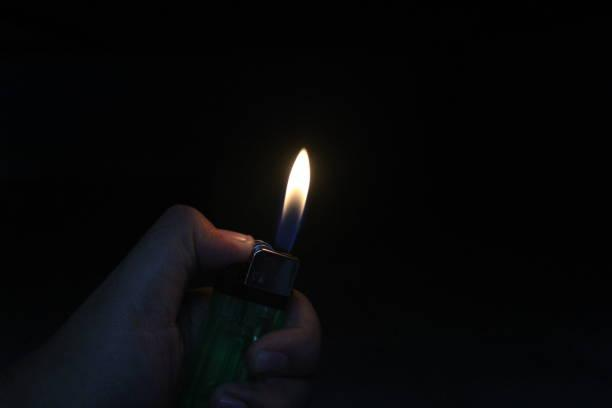Fire: (273, 140, 326, 254)
